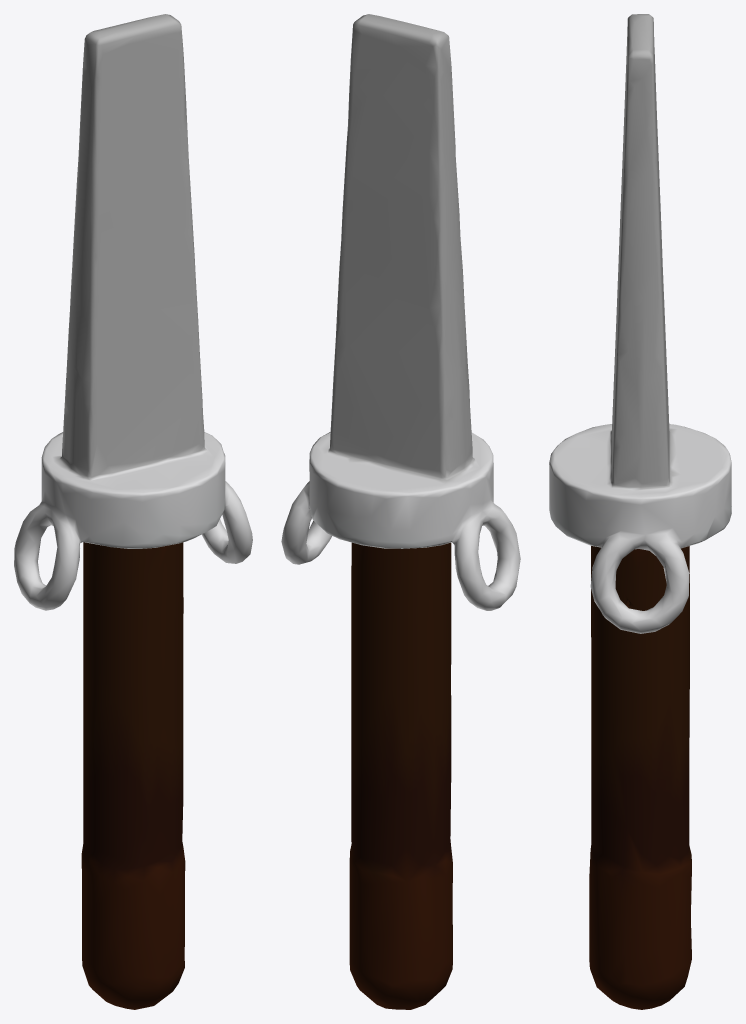
The model's file is gen3d-throwing-knife-lod0.glb.
3 views of the same model, side by side, from view 1: azimuth 30°, elevation 25°; view 2: azimuth 150°, elevation 25°; view 3: azimuth 270°, elevation 25° (orthographic).
Parts seen in each view (by area): view 1: part_0; view 2: part_0; view 3: part_0.
Boxes of the visible parts, x1=… form: part_0: x1=14, y1=14, x2=252, y2=1009; part_0: x1=281, y1=14, x2=520, y2=1009; part_0: x1=549, y1=14, x2=731, y2=1009.
Bounding box in the file's own units: 0.2221 × 0.9993 × 0.1699.
